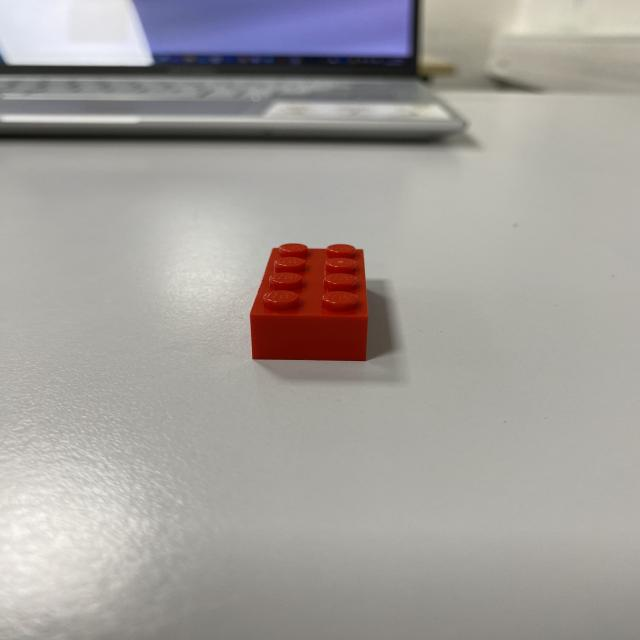C4x2x1: (252, 243, 370, 317), (252, 317, 371, 360)
